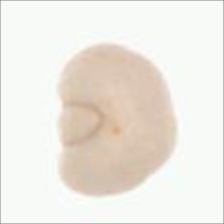L5: (55, 91, 112, 152), (160, 87, 180, 161)
L6: (50, 40, 184, 202)
